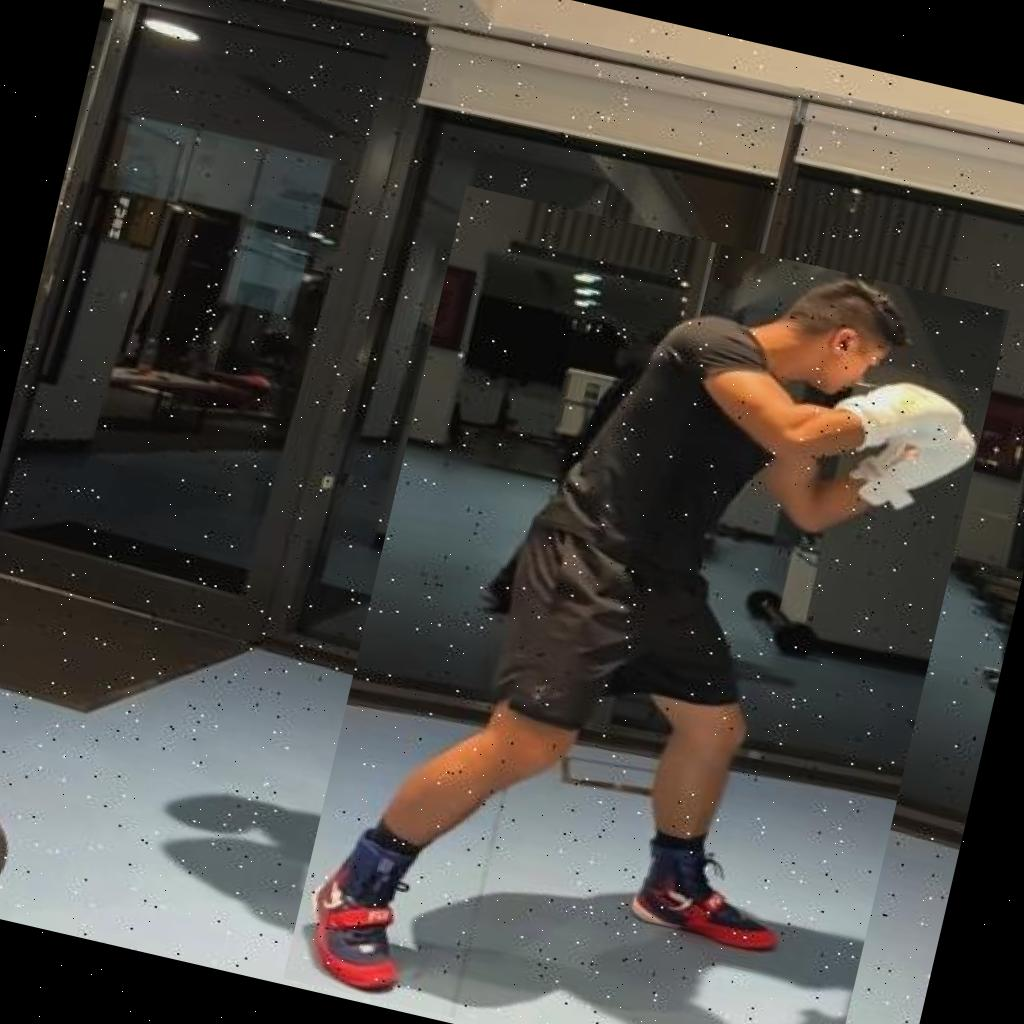no punch: (283, 185, 1010, 1024)
